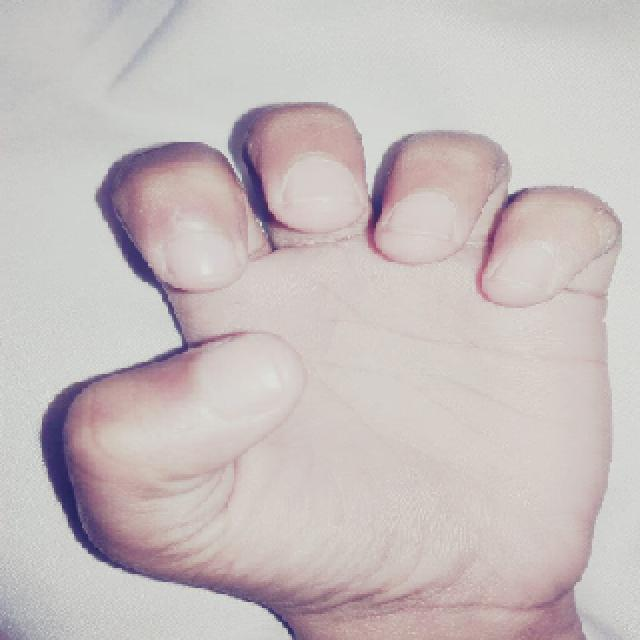Nail: (196, 332, 295, 417), (165, 225, 238, 286), (280, 159, 368, 202), (390, 190, 459, 240), (491, 241, 550, 289)
